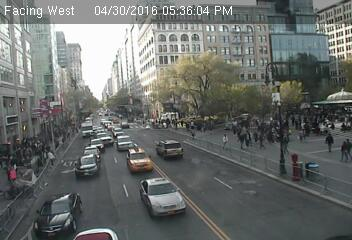neg: (99, 126, 114, 146), (88, 116, 102, 134)
pos: (321, 131, 339, 155), (218, 132, 232, 151)
